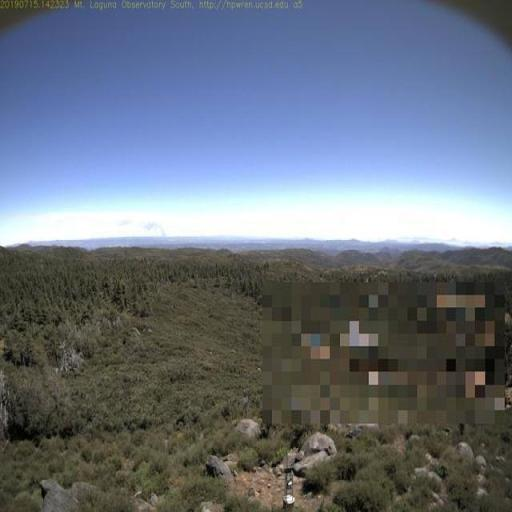smoke: (139, 222, 168, 236)
